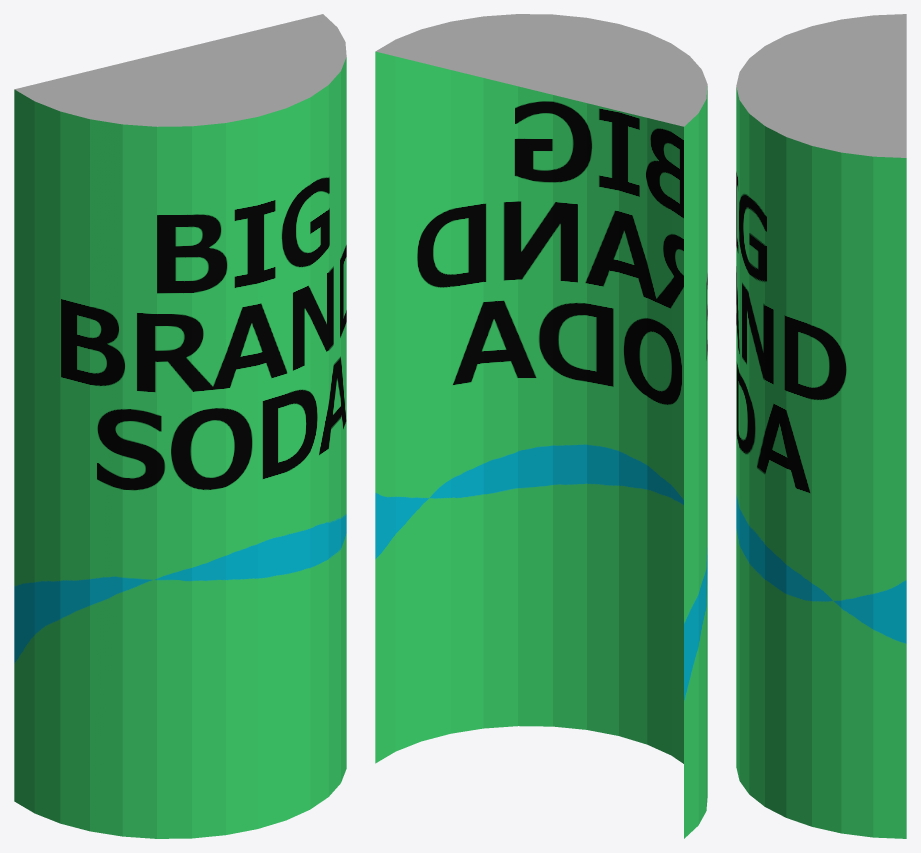
Rendered from Can_Large.obj.
3 views of the same model, side by side, from view 1: azimuth 30°, elevation 25°; view 2: azimuth 150°, elevation 25°; view 3: azimuth 270°, elevation 25° (orthographic). The views are drawn at different scales.
Parts seen in each view (by area): view 1: Can_Large_Cylinder; view 2: Can_Large_Cylinder; view 3: Can_Large_Cylinder.
Boxes of the visible parts, x1,y1,x2,y2 form: Can_Large_Cylinder: (14,14,346,838); Can_Large_Cylinder: (375,14,707,838); Can_Large_Cylinder: (736,14,906,838).
Size of the model in its own units: 1.35 by 2.98 by 0.6751.
1 material, 1 textured.
